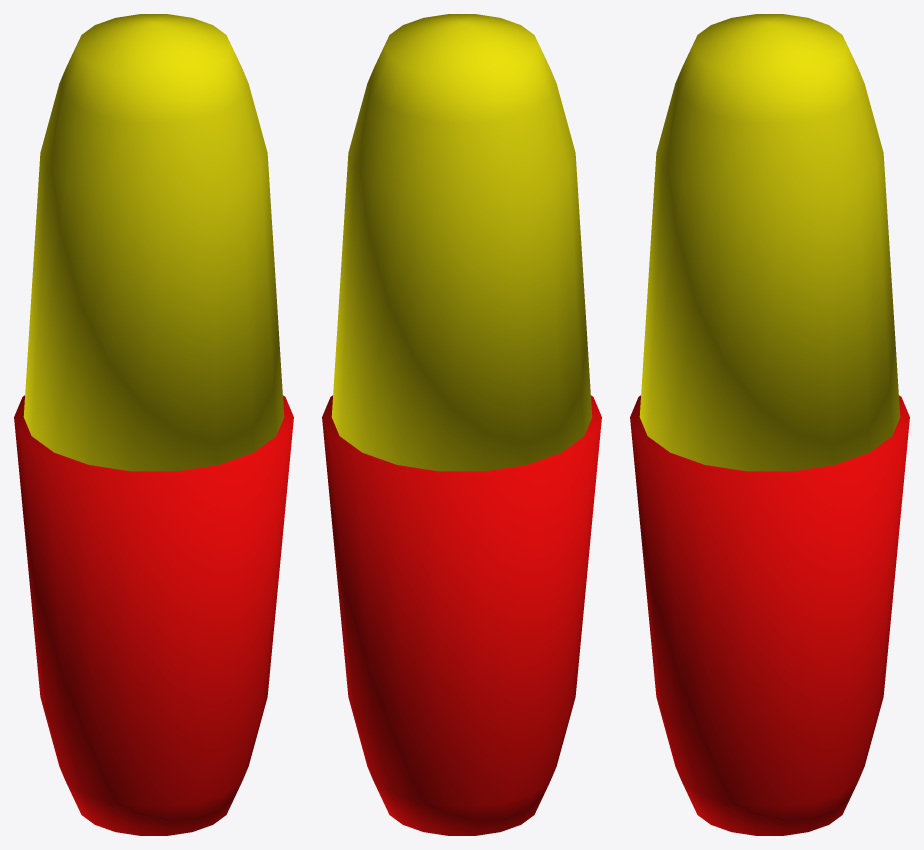
File: pilula_TEXTURIZADA.fbx
3 views of the same model, side by side, from view 1: azimuth 30°, elevation 25°; view 2: azimuth 150°, elevation 25°; view 3: azimuth 270°, elevation 25° (orthographic).
Visible parts, largest first — view 1: Circle.035; view 2: Circle.035; view 3: Circle.035.
Boxes of the visible parts, x1,y1,x2,y2 form: Circle.035: [14, 14, 293, 835]; Circle.035: [322, 14, 601, 835]; Circle.035: [630, 14, 909, 835].
Bounding box in the file's own units: 0.5601 × 1.8 × 0.5688.
